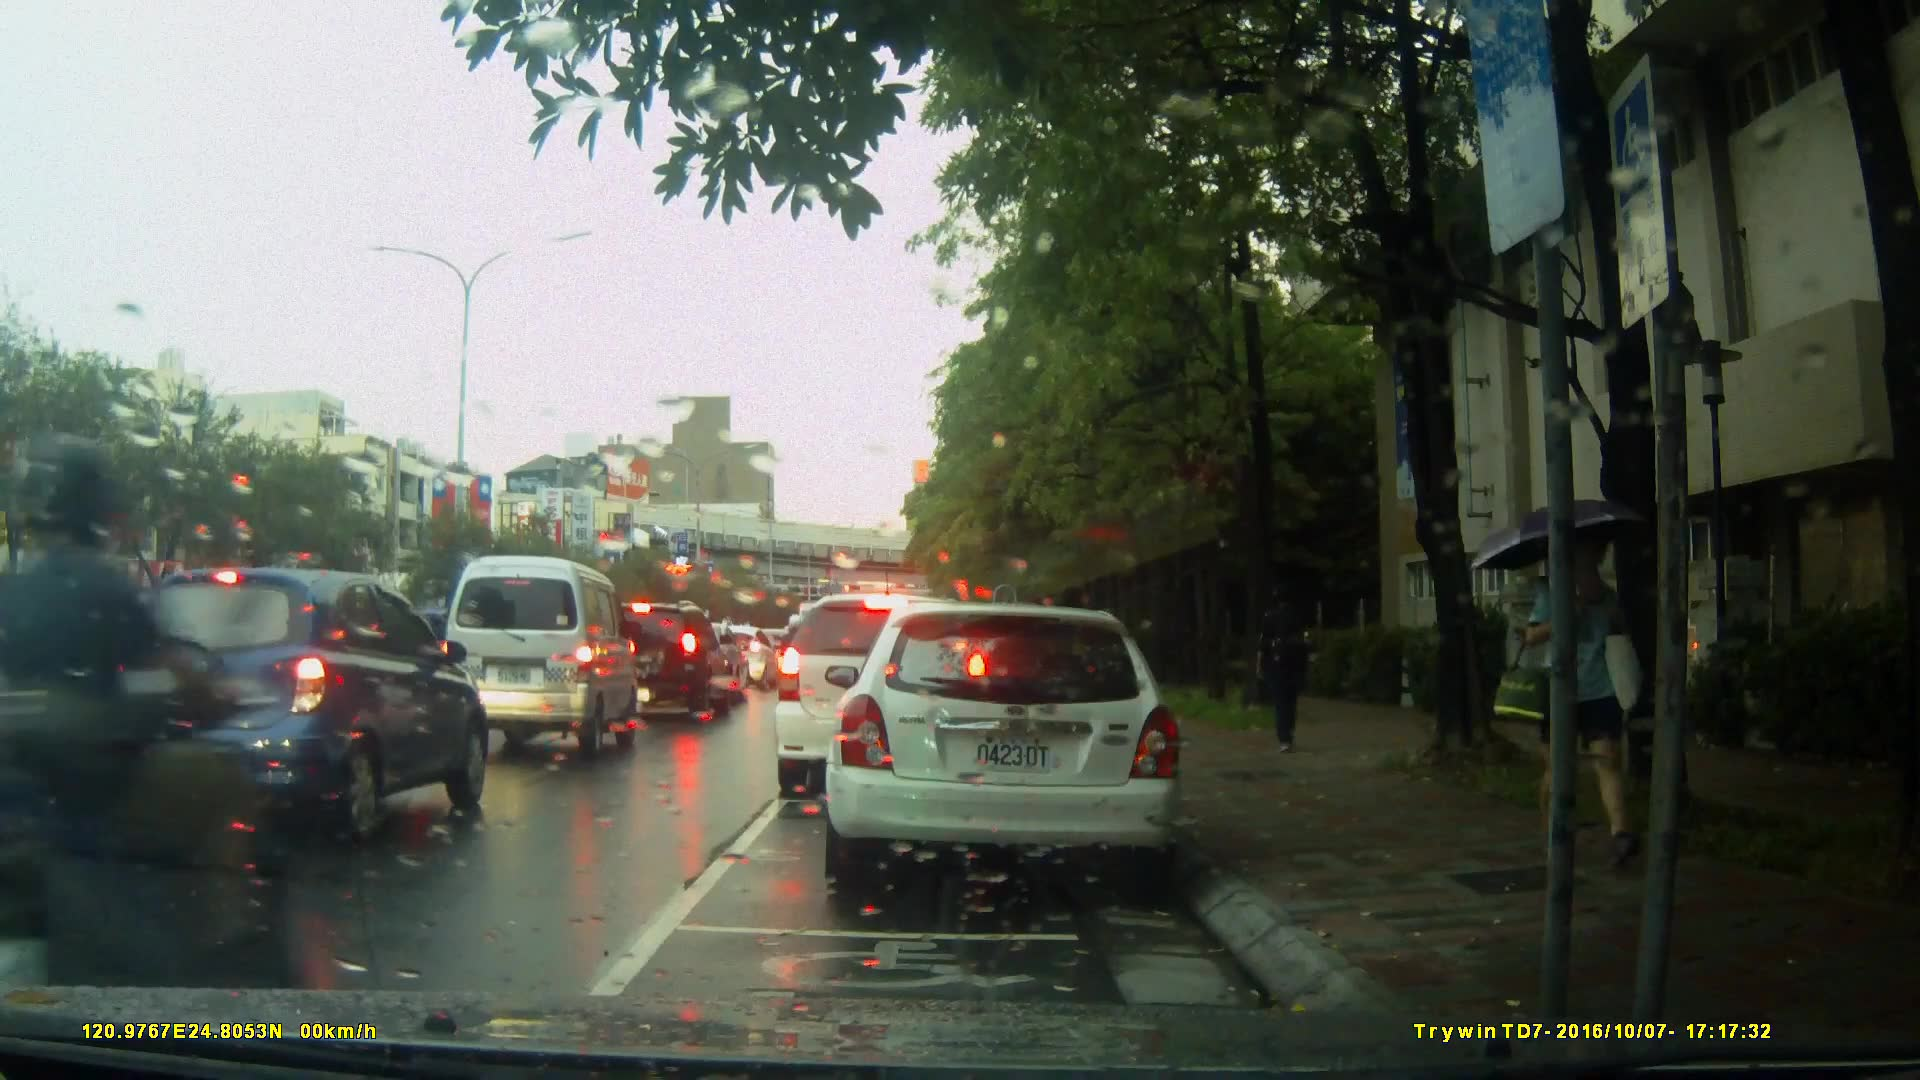pedestrian: (1534, 507, 1663, 886), (1247, 576, 1324, 760)
rider: (5, 431, 312, 1054)
vehicle: (815, 593, 1204, 909), (99, 565, 501, 848), (770, 590, 993, 802), (435, 553, 642, 763), (585, 603, 736, 724)
